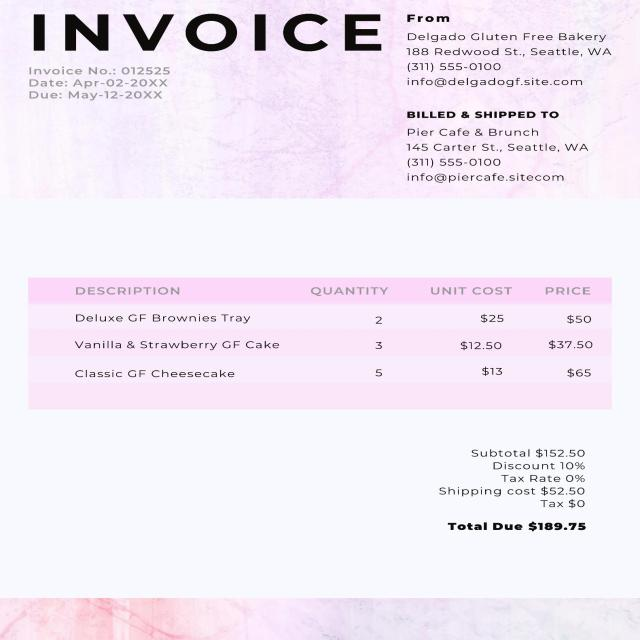paragraph: (27, 10, 390, 59), (403, 12, 621, 92), (401, 104, 597, 191), (412, 440, 618, 512), (23, 64, 185, 110), (418, 518, 616, 542)
table: (26, 278, 614, 413)
